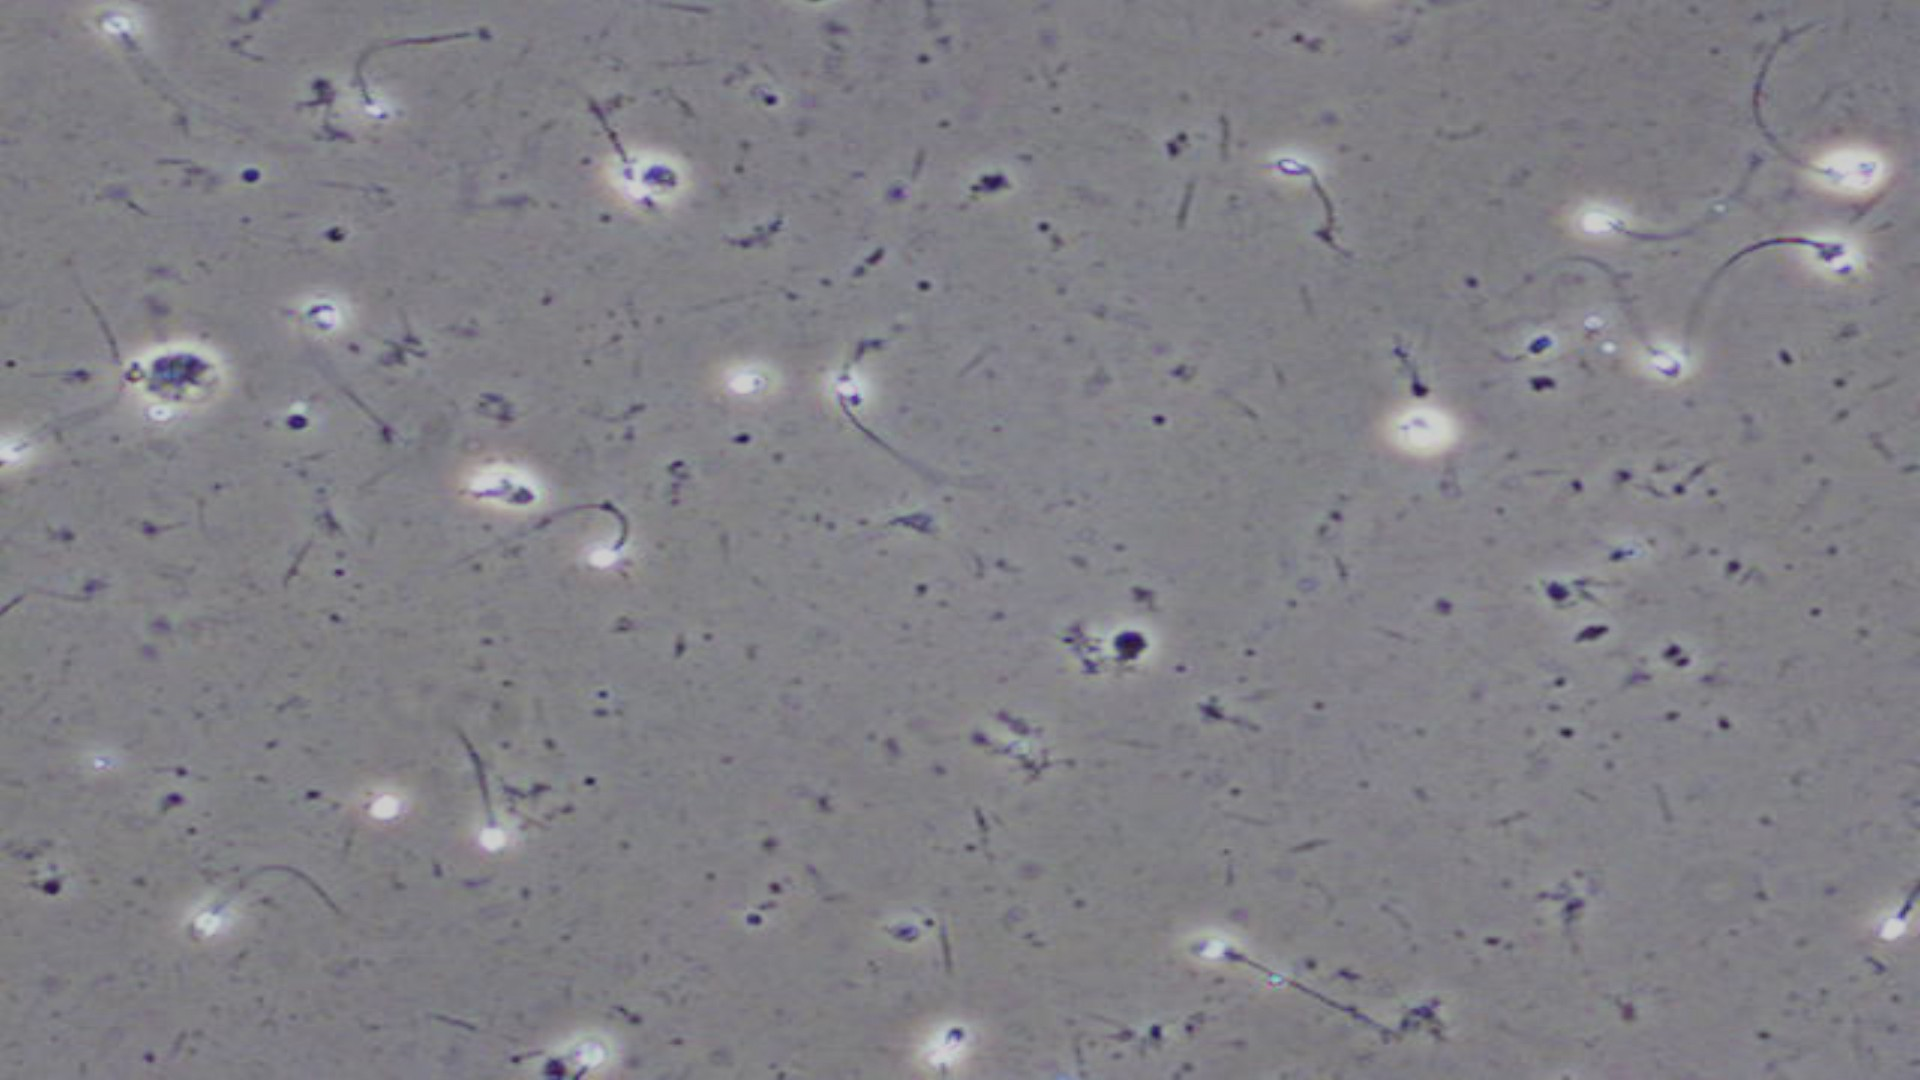sperm: (827, 348, 943, 496), (1269, 121, 1356, 295), (178, 872, 320, 975), (1560, 182, 1689, 289), (342, 45, 448, 171), (1584, 270, 1696, 386), (1714, 231, 1854, 316), (1767, 104, 1876, 204), (436, 736, 512, 872), (535, 502, 653, 584), (578, 117, 659, 224), (96, 15, 177, 117), (1197, 931, 1317, 1000), (1857, 884, 1920, 942)
